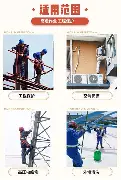safety belt: (15, 46, 27, 71), (17, 134, 29, 148), (37, 57, 47, 73), (97, 129, 104, 139)
